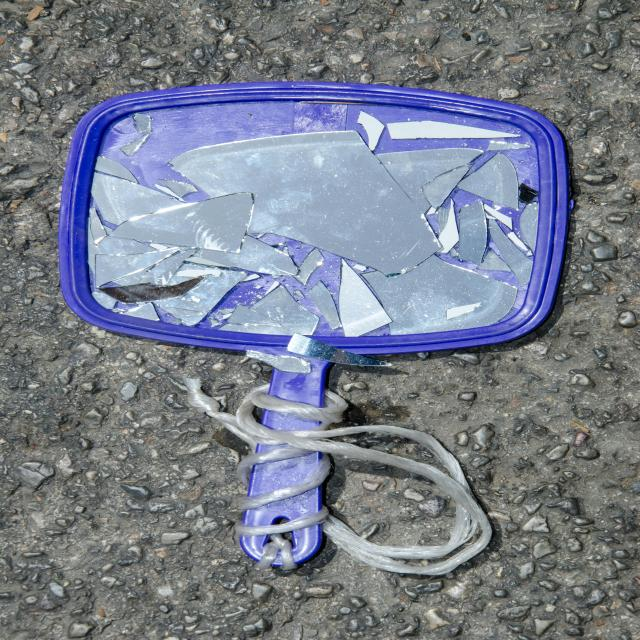electronic: (82, 98, 552, 335)
